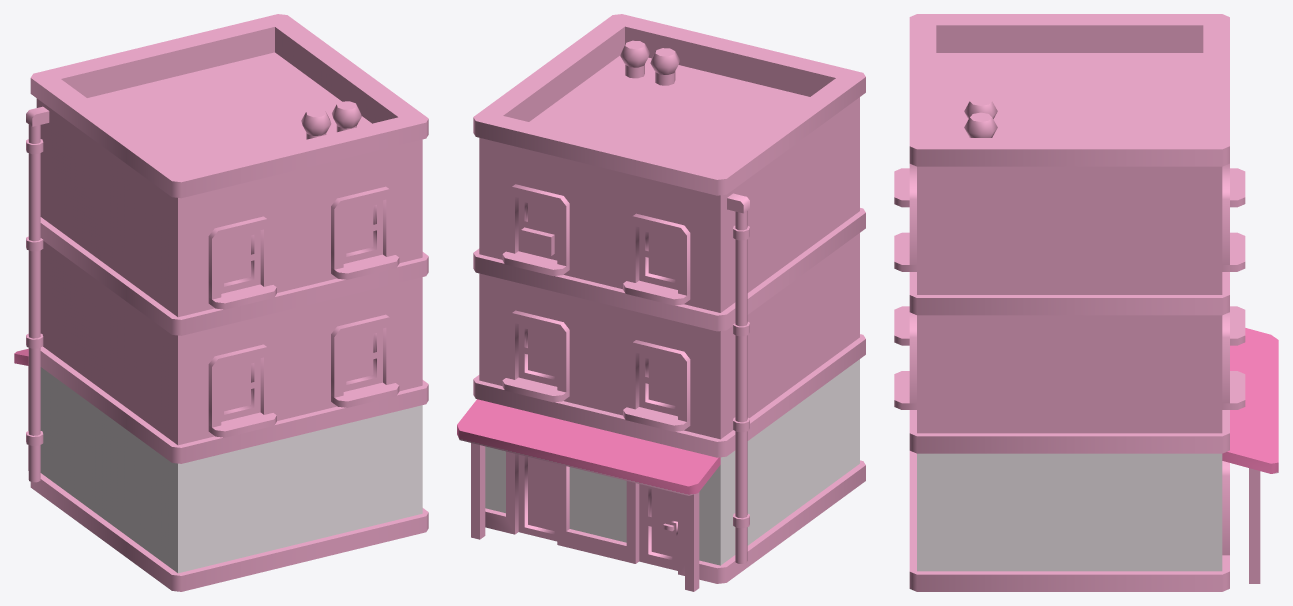
Rendered from building_h.obj.
3 renders of one model, left to right at view 1: azimuth 30°, elevation 25°; view 2: azimuth 150°, elevation 25°; view 3: azimuth 270°, elevation 25°, orthographic. The views are drawn at different scales.
Visible parts, largest first — view 1: building-h; view 2: building-h; view 3: building-h.
Boxes of the visible parts, bbox=[...] form: building-h: bbox=[14, 14, 428, 591]; building-h: bbox=[457, 14, 865, 591]; building-h: bbox=[894, 14, 1278, 591].
Size of the model in its own units: 17.67 by 25.86 by 20.16.
Materials: 1 (1 with a texture image).
